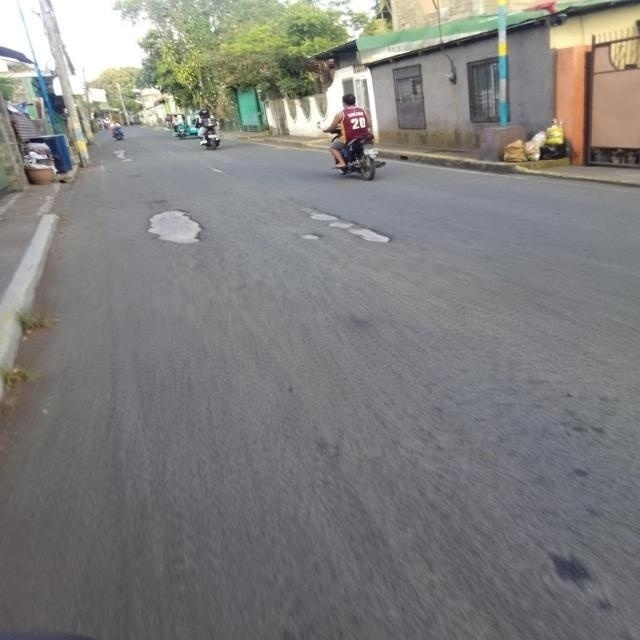pothole: (120, 194, 427, 258)
